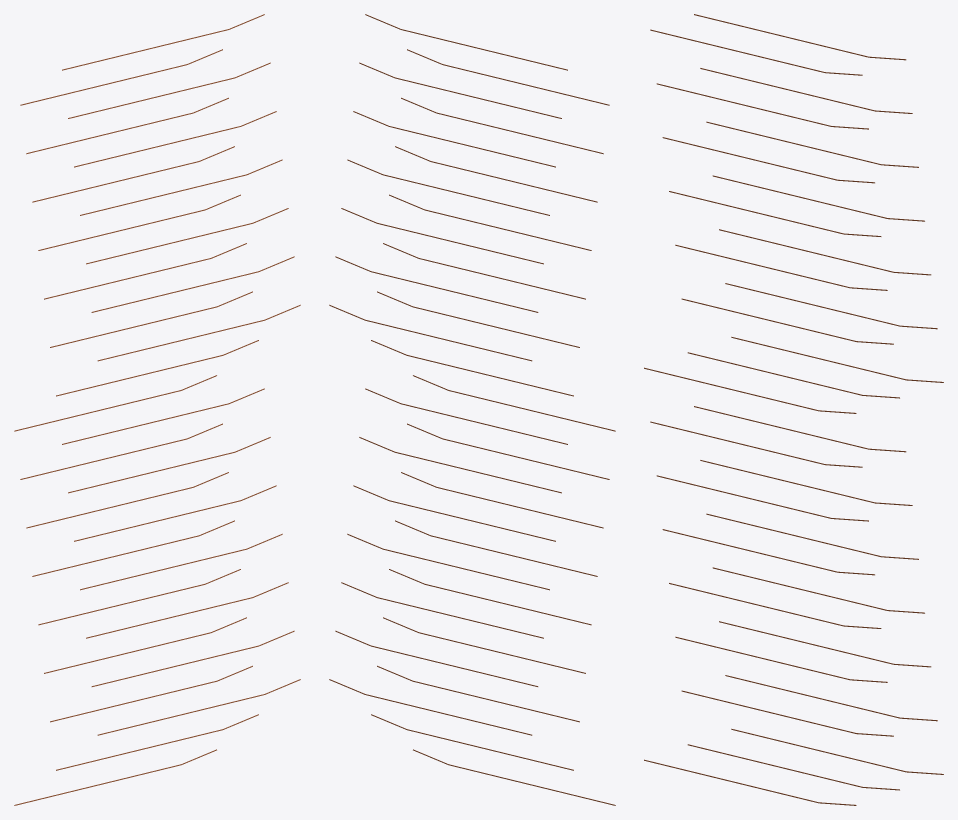
File: 084_L102_L1_Layer_Top.fbx
3 views of the same model, side by side, from view 1: azimuth 30°, elevation 25°; view 2: azimuth 150°, elevation 25°; view 3: azimuth 330°, elevation 25° (orthographic). The views are drawn at different scales.
Visible parts, largest first — view 1: L1_Layer_Top; view 2: L1_Layer_Top; view 3: L1_Layer_Top.
Part boxes in pixels (bbox=[...]): L1_Layer_Top: bbox=[14, 14, 300, 805]; L1_Layer_Top: bbox=[329, 14, 615, 805]; L1_Layer_Top: bbox=[644, 14, 943, 805].
Bounding box in the file's own units: 0.048 × 0.1171 × 4e-05.
